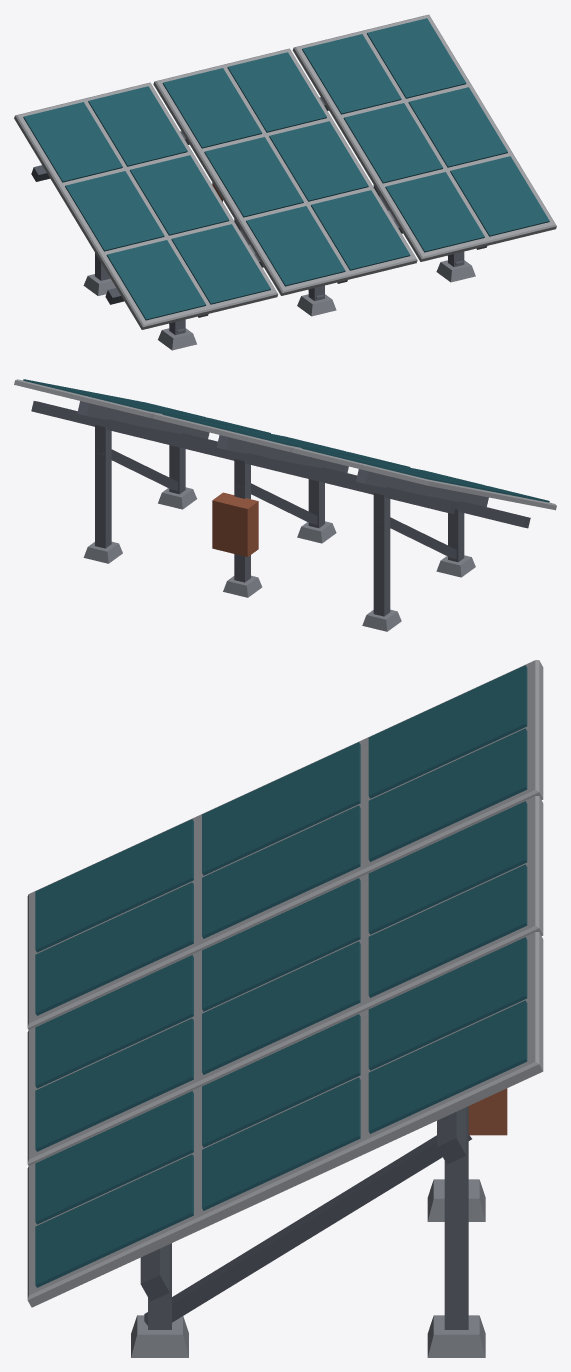
Rendered from solar-array-rack-789c93.glb.
The picture shows the model from 3 angles, top to bottom: view 1: azimuth 30°, elevation 25°; view 2: azimuth 150°, elevation 25°; view 3: azimuth 270°, elevation 25°; orthographic projection. The views are drawn at different scales.
Visible parts, largest first — view 1: solar-array-rack-body; view 2: solar-array-rack-body, combiner-box-shell; view 3: solar-array-rack-body, combiner-box-shell.
Boxes of the visible parts, left/top/right/bottom form: solar-array-rack-body: left=14, top=14, right=556, bottom=350; solar-array-rack-body: left=14, top=379, right=556, bottom=631; combiner-box-shell: left=212, top=492, right=258, bottom=557; solar-array-rack-body: left=27, top=660, right=543, bottom=1357; combiner-box-shell: left=468, top=1088, right=507, bottom=1135.
Size of the model in its own units: 4 by 1.59 by 2.14.
